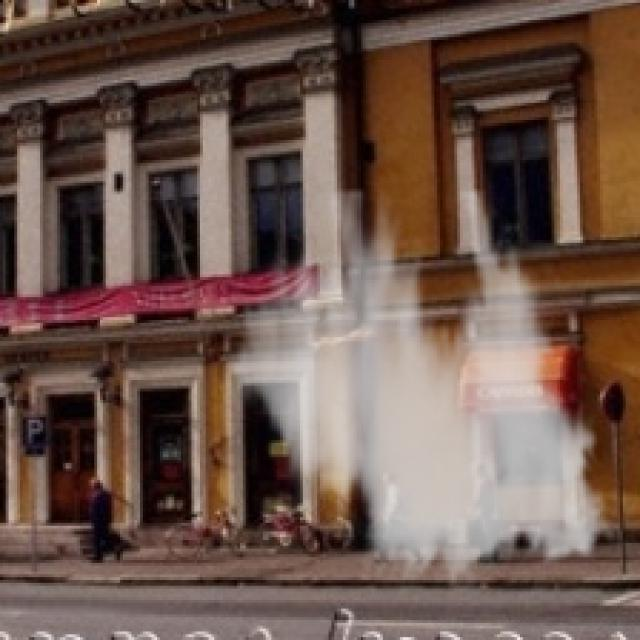smoke: (220, 189, 626, 594)
